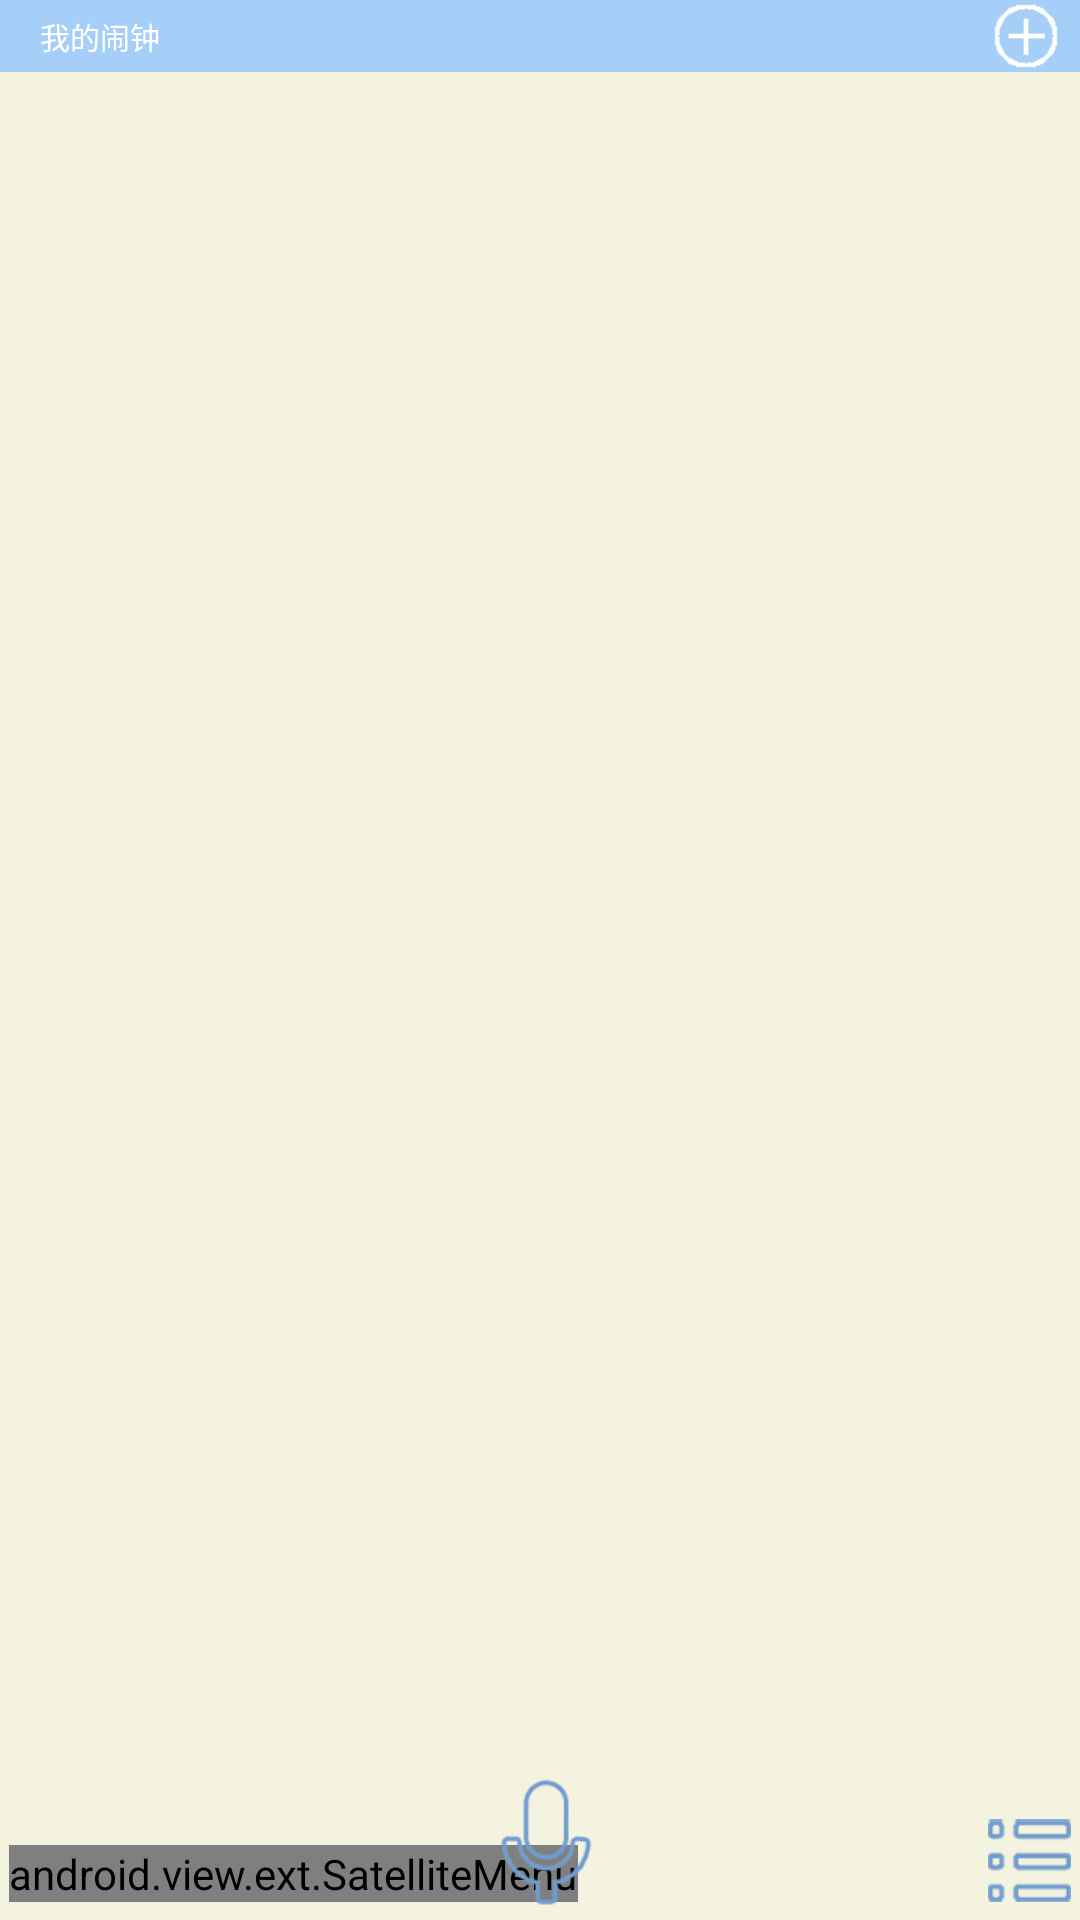

Named icons in this screenshot (1080 x 1920) and their centers, [x,y]:
record list: [1029,1860]
